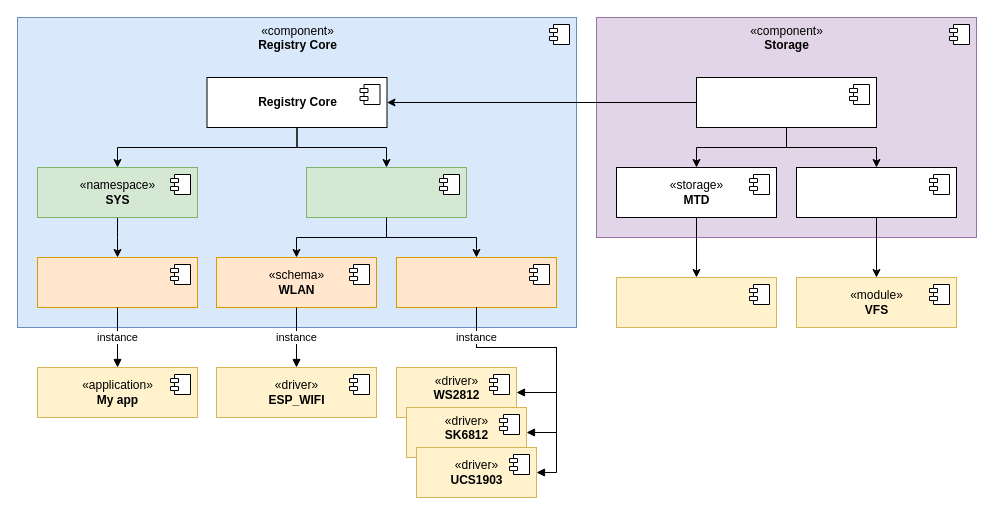
Image size: 994x515. Some labels were removed from this diagram. Here are the shapes that lost their labels. From the top down, the centre of each, then its label:
the point at 786,102: Storage
the point at 386,192: «namespace» APP
the point at 876,192: «storage» VFS
the point at 117,282: «schema» My app
the point at 476,282: «schema» LED Strip
the point at 696,302: «driver» MTD
